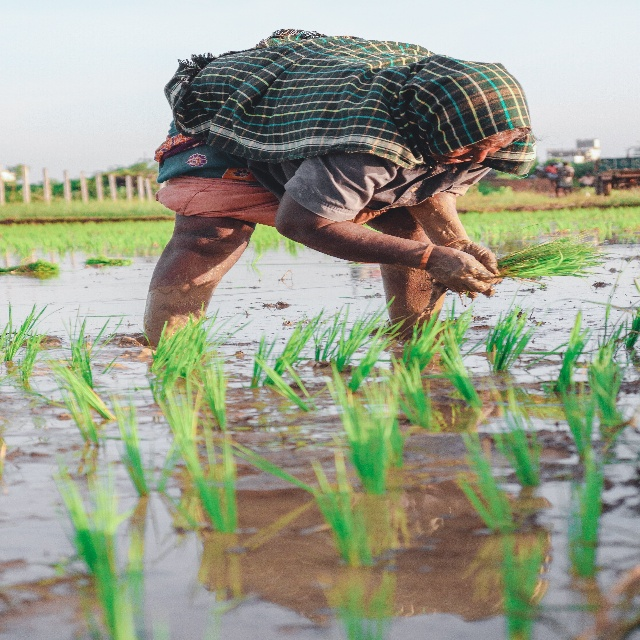Sin_guantes: (426, 241, 495, 293), (453, 236, 503, 305)
